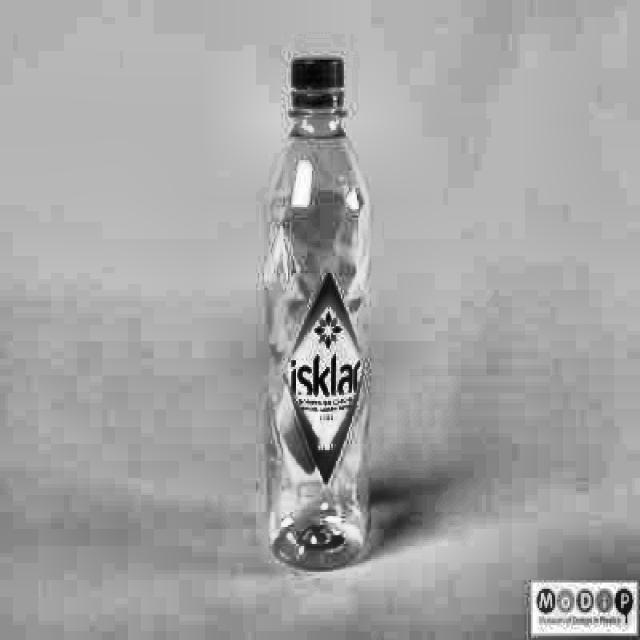waterbottle: (250, 41, 384, 584)
